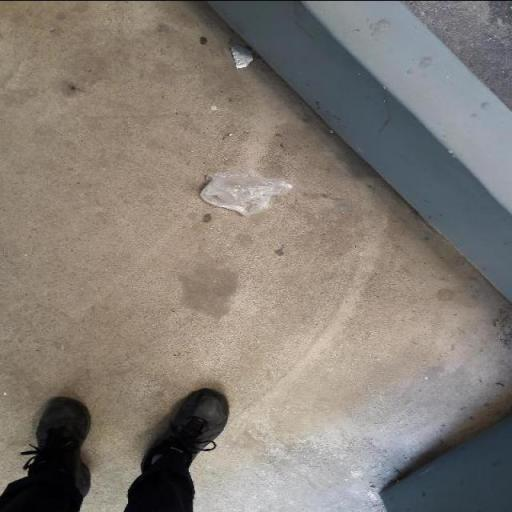plastic-bag: (197, 172, 296, 218)
